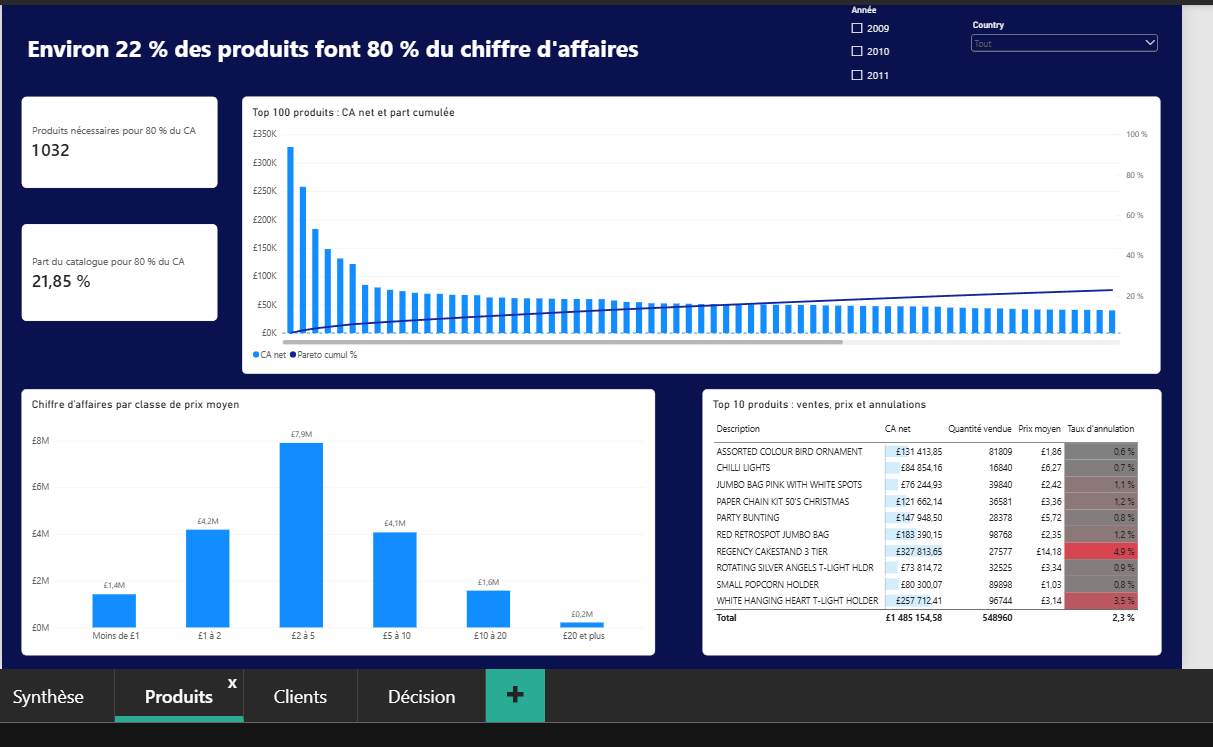

The page's visual inventory and layout, read from the dashboard file:
{"tool":"powerbi","page":{"name":"Produits","canvas":[1920,1080],"ordinal":1},"visuals":[{"type":"textbox","box":[11.6,43.3,1051.5,95.3],"z":0},{"type":"slicer","fields":{"Values":["DimDate.Année"]},"box":[1374.3,0,164.3,131.5],"z":2000},{"type":"slicer","fields":{"Values":["DimPays.Country"]},"box":[1571.5,23.9,313.7,86.6],"z":3000},{"type":"lineClusteredColumnComboChart","title":"Top 100 produits : CA net et part cumulée","fields":{"Category":["DimProduit.StockCode"],"Y":["DimDate.CA net"],"Y2":["_Mesures.Pareto cumul %"]},"box":[391.4,149.4,1493.8,451.1],"z":10001},{"type":"cardVisual","fields":{"Data":["_Mesures.Nb produits 80 % (affichage)"]},"box":[32.9,149.4,319.7,149.4],"z":10002},{"type":"clusteredColumnChart","title":"Chiffre d’affaires par classe de prix moyen","fields":{"Category":["DimProduit.Classe de prix"],"Y":["DimDate.CA net"]},"box":[32.9,624.4,1030.7,433.2],"z":10003},{"type":"tableEx","title":"Top 10 produits : ventes, prix et annulations","fields":{"Values":["DimProduit.Description","DimDate.CA net","_Mesures.Quantité vendue","DimProduit.Prix moyen","_Mesures.Taux d'annulation"]},"box":[1138.3,624.4,746.9,433.2],"z":10004},{"type":"cardVisual","fields":{"Data":["_Mesures.Part du catalogue pour 80 % du CA"]},"box":[32.9,355.5,319.7,158.3],"z":10005}]}

Visuals, with their boxes on the page's 1920x1080 design canvas (x1, y1, x2, y2). These are canvas units, not pixel positions in the 1213x747 screenshot, which may show the page scaled, cropped or inside an application window:
textbox: 12, 43, 1063, 139
slicer - DimDate.Année: 1374, 0, 1539, 132
slicer - DimPays.Country: 1572, 24, 1885, 110
"Top 100 produits : CA net et part cumulée" lineClusteredColumnComboChart: 391, 149, 1885, 600
cardVisual - _Mesures.Nb produits 80 % (affichage): 33, 149, 353, 299
"Chiffre d’affaires par classe de prix moyen" clusteredColumnChart: 33, 624, 1064, 1058
"Top 10 produits : ventes, prix et annulations" tableEx: 1138, 624, 1885, 1058
cardVisual - _Mesures.Part du catalogue pour 80 % du CA: 33, 356, 353, 514
